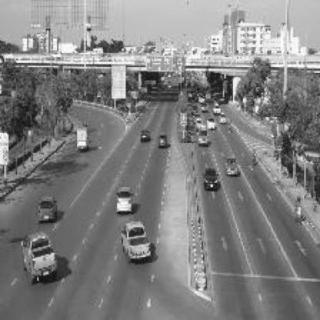other: (25, 186, 59, 226)
